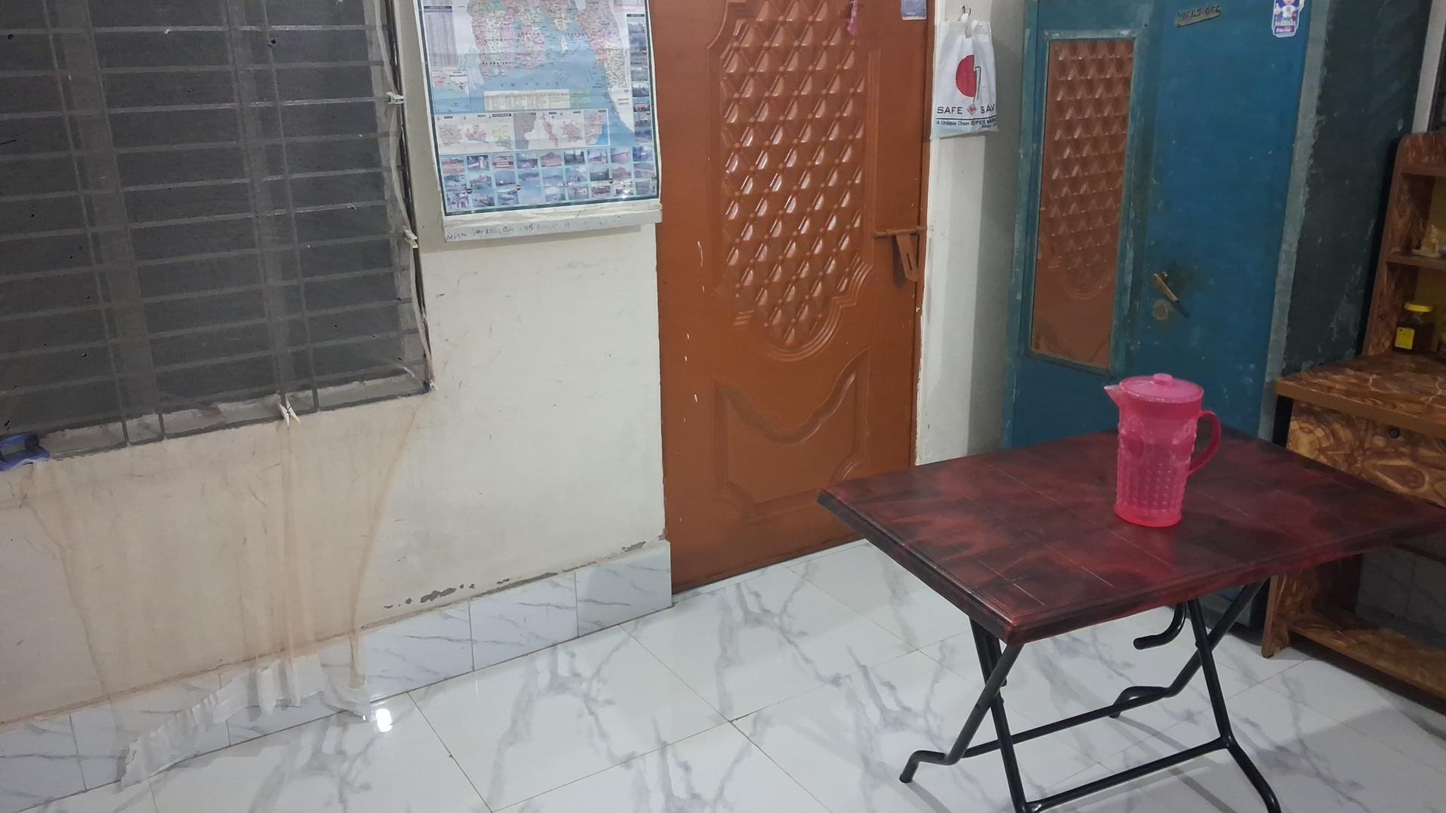Bag: (933, 13, 1004, 143)
Door: (641, 5, 935, 562)
Jar: (1397, 298, 1433, 356)
Jug: (1107, 369, 1218, 529)
Table: (815, 421, 1443, 811)
Window: (0, 0, 441, 454)
